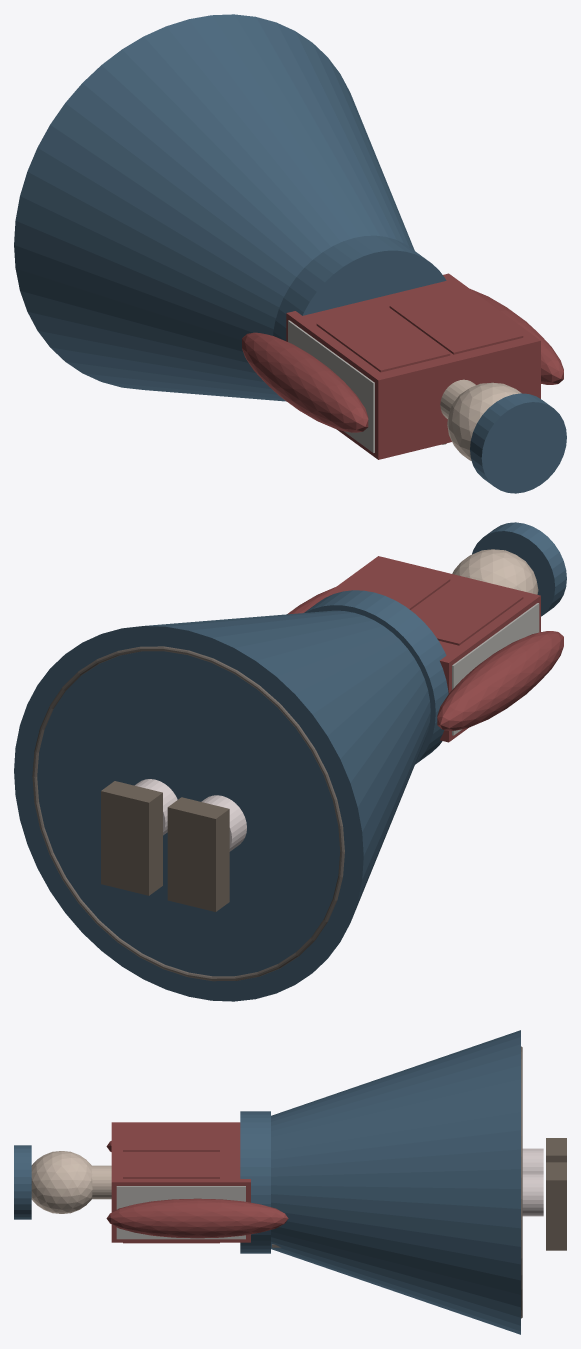
File: MASTER_046_STAGE3_DETAIL.glb
3 views of the same model, one above another, from view 1: azimuth 30°, elevation 25°; view 2: azimuth 150°, elevation 25°; view 3: azimuth 270°, elevation 25° (orthographic). The views are drawn at different scales.
Parts seen in each view (by area): view 1: slot_lower_main__fund_i_gjatë, slot_upper_inner__këmishë, slot_waist__brez, slot_headwear__mbulesë_koke, slot_upper_inner_sleeve_L, slot_upper_outer__jelek/xhamadan_L, slot_upper_outer__jelek/xhamadan_R, mannequin_torso, mannequin_head, slot_upper_inner_sleeve_R; view 2: slot_lower_main__fund_i_gjatë, slot_footwear__opinga_L, slot_footwear__opinga_R, slot_upper_inner_sleeve_L, detail_skirt_hem, slot_waist__brez, slot_upper_outer__jelek/xhamadan_L, slot_headwear__mbulesë_koke, slot_upper_inner__këmishë, slot_upper_outer__jelek/xhamadan_R, mannequin_head, mannequin_torso (+2 smaller); view 3: slot_lower_main__fund_i_gjatë, slot_upper_inner_sleeve_R, slot_upper_inner__këmishë, mannequin_head, slot_waist__brez, slot_upper_outer__jelek/xhamadan_R, slot_upper_outer__jelek/xhamadan_L, mannequin_torso, slot_footwear__opinga_R, slot_headwear__mbulesë_koke, slot_legwear__çorape_R, mannequin_neck (+3 smaller).
Boxes of the visible parts, x1,y1,x2,y2 form: slot_lower_main__fund_i_gjatë: (14, 14, 414, 401); slot_upper_inner__këmishë: (286, 273, 540, 459); slot_waist__brez: (273, 235, 446, 340); slot_headwear__mbulesë_koke: (470, 393, 566, 493); slot_upper_inner_sleeve_L: (242, 332, 368, 432); slot_upper_outer__jelek/xhamadan_L: (316, 306, 450, 372); slot_upper_outer__jelek/xhamadan_R: (389, 289, 523, 354); mannequin_torso: (288, 320, 374, 452); mannequin_head: (447, 382, 521, 460); slot_upper_inner_sleeve_R: (470, 289, 563, 384); slot_lower_main__fund_i_gjatë: (14, 610, 430, 1001); slot_footwear__opinga_L: (167, 797, 229, 911); slot_footwear__opinga_R: (101, 781, 162, 895); slot_upper_inner_sleeve_L: (437, 631, 563, 730); detail_skirt_hem: (32, 646, 344, 981); slot_waist__brez: (304, 590, 448, 764); slot_upper_outer__jelek/xhamadan_L: (411, 580, 523, 645); slot_headwear__mbulesë_koke: (472, 522, 566, 616); slot_upper_inner__këmishë: (300, 556, 540, 742); slot_upper_outer__jelek/xhamadan_R: (339, 562, 450, 609); mannequin_head: (452, 549, 538, 594); mannequin_torso: (452, 603, 539, 735); slot_lower_main__fund_i_gjatë: (271, 1030, 520, 1334); slot_upper_inner_sleeve_R: (106, 1198, 288, 1238); slot_upper_inner__këmishë: (111, 1122, 250, 1242); mannequin_head: (31, 1151, 92, 1213); slot_waist__brez: (240, 1111, 270, 1253); slot_upper_outer__jelek/xhamadan_R: (123, 1151, 219, 1243); slot_upper_outer__jelek/xhamadan_L: (123, 1124, 219, 1151); mannequin_torso: (116, 1186, 245, 1239); slot_footwear__opinga_R: (546, 1162, 566, 1250); slot_headwear__mbulesë_koke: (14, 1145, 31, 1219); slot_legwear__çorape_R: (522, 1173, 543, 1216); mannequin_neck: (91, 1165, 111, 1199).
Bounding box in the file's own units: 0.9435 × 0.9435 × 1.71.
